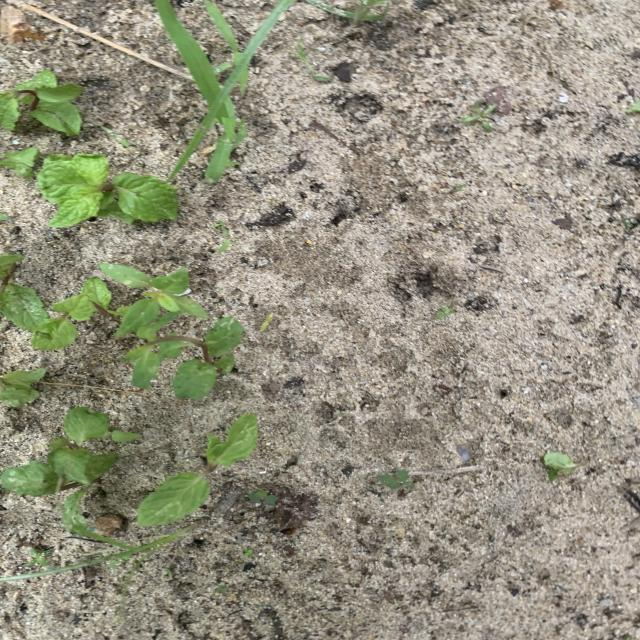crop: (0, 407, 118, 536), (137, 414, 256, 525), (38, 154, 178, 227), (126, 316, 242, 399), (101, 264, 207, 340), (32, 278, 115, 350), (1, 71, 83, 135), (1, 254, 49, 330), (1, 369, 46, 407), (1, 148, 39, 176)
weed: (157, 1, 291, 182), (76, 526, 194, 562), (306, 0, 387, 22), (460, 103, 495, 131), (379, 470, 414, 488), (101, 126, 130, 147), (213, 222, 230, 253), (249, 490, 277, 504), (28, 549, 48, 567), (437, 303, 454, 318), (260, 314, 272, 330), (627, 101, 639, 112), (216, 585, 227, 593), (243, 549, 253, 555), (1, 213, 7, 219)
